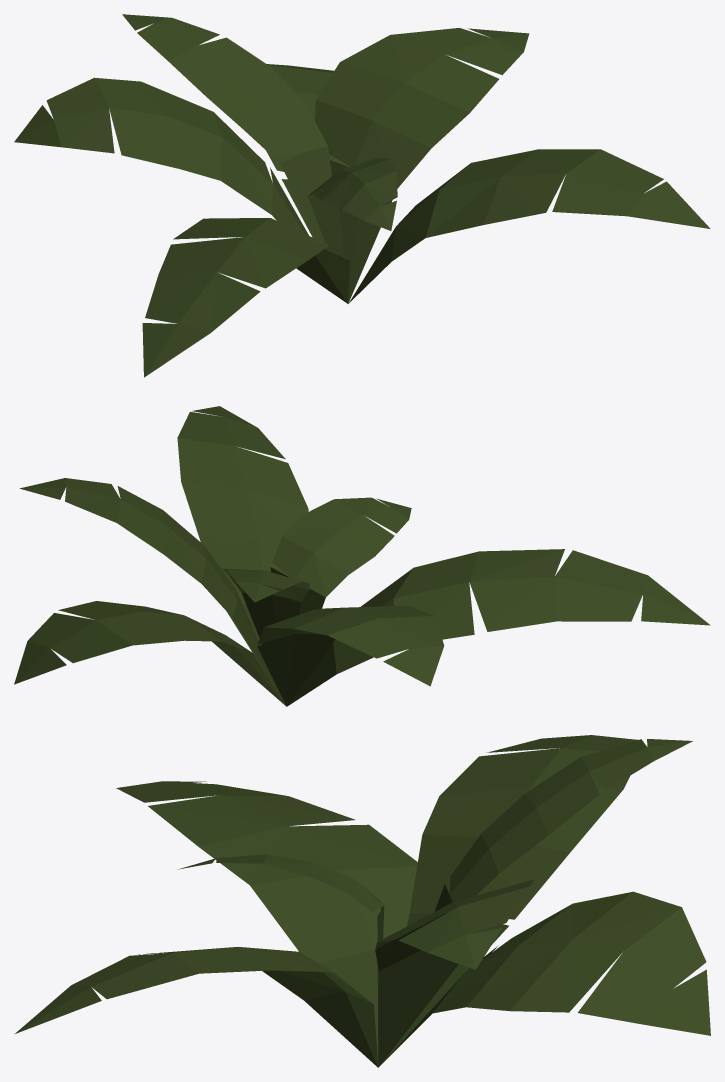
File: Plant_6.fbx
3 views of the same model, one above another, from view 1: azimuth 30°, elevation 25°; view 2: azimuth 150°, elevation 25°; view 3: azimuth 270°, elevation 25° (orthographic). The views are drawn at different scales.
Parts seen in each view (by area): view 1: Plant_6; view 2: Plant_6; view 3: Plant_6.
Boxes of the visible parts, x1,y1,x2,y2 form: Plant_6: (14,14,710,377); Plant_6: (14,406,710,706); Plant_6: (14,735,710,1067).
Bounding box in the file's own units: 1.29 × 0.516 × 1.2.
